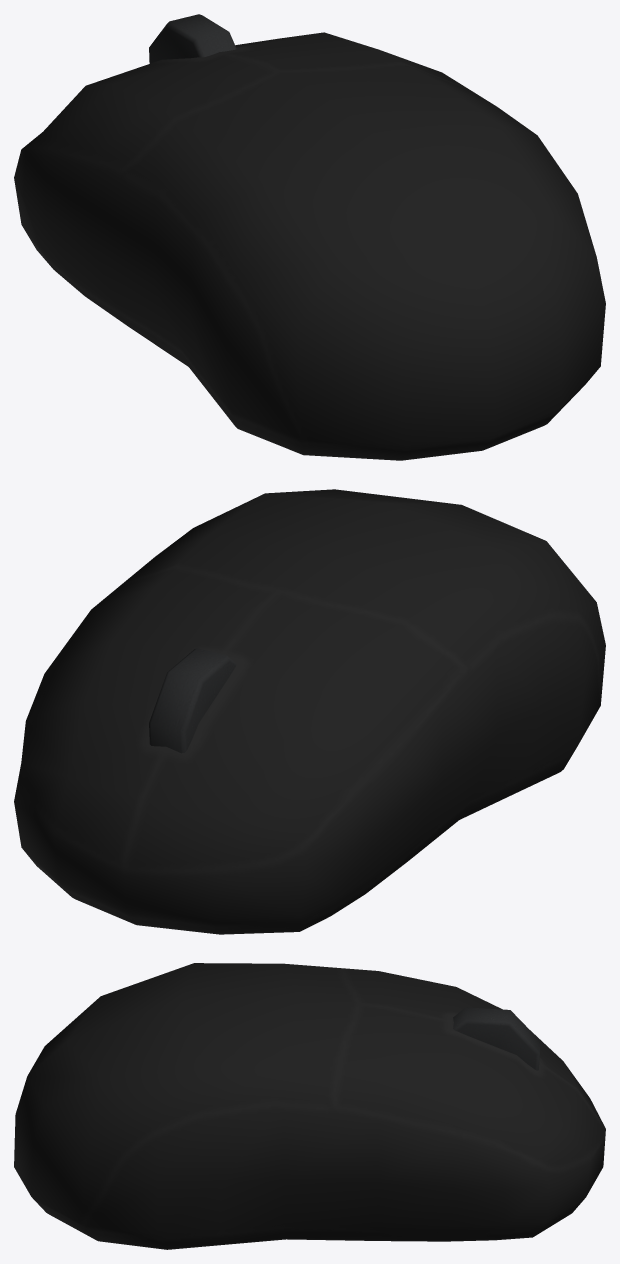
File: Mouse.fbx
3 renders of one model, top to bottom at view 1: azimuth 30°, elevation 25°; view 2: azimuth 150°, elevation 25°; view 3: azimuth 270°, elevation 25°, orthographic. The views are drawn at different scales.
Visible parts, largest first — view 1: Mouse; view 2: Mouse; view 3: Mouse.
Part boxes in pixels (x1,y1,x2,y2): Mouse: [14, 14, 605, 460]; Mouse: [14, 489, 605, 934]; Mouse: [14, 963, 605, 1249].
Size of the model in its own units: 0.1155 by 0.0738 by 0.2064.
